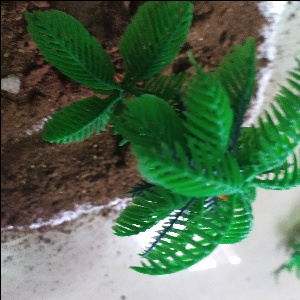plant: (18, 8, 300, 247)
